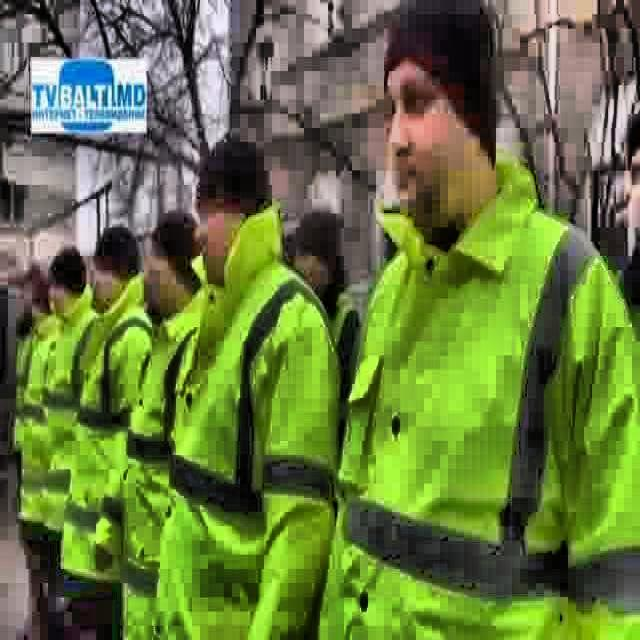safety_jacket: (316, 153, 640, 640), (150, 205, 344, 640), (92, 277, 204, 640), (58, 274, 148, 586), (40, 284, 93, 536), (13, 311, 56, 525)
